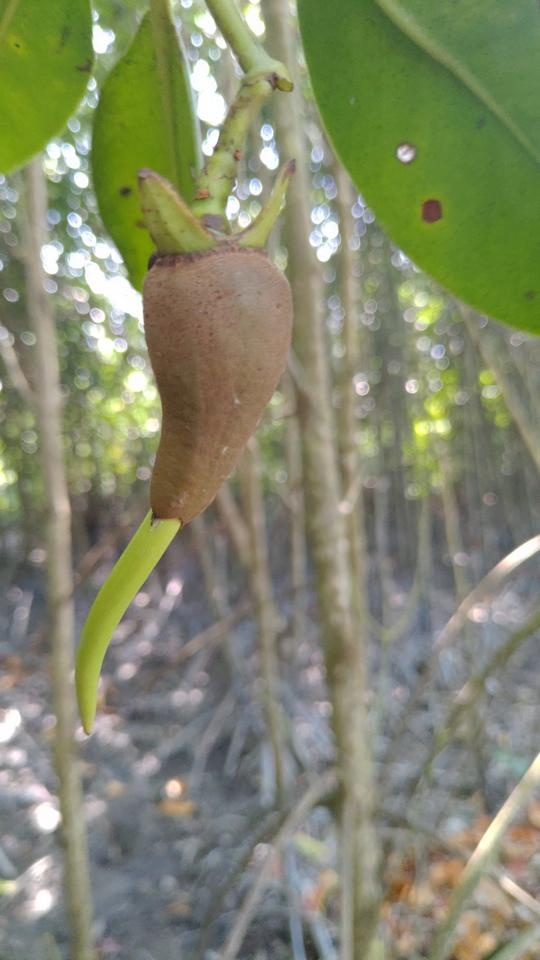mentah: (72, 152, 317, 752)
